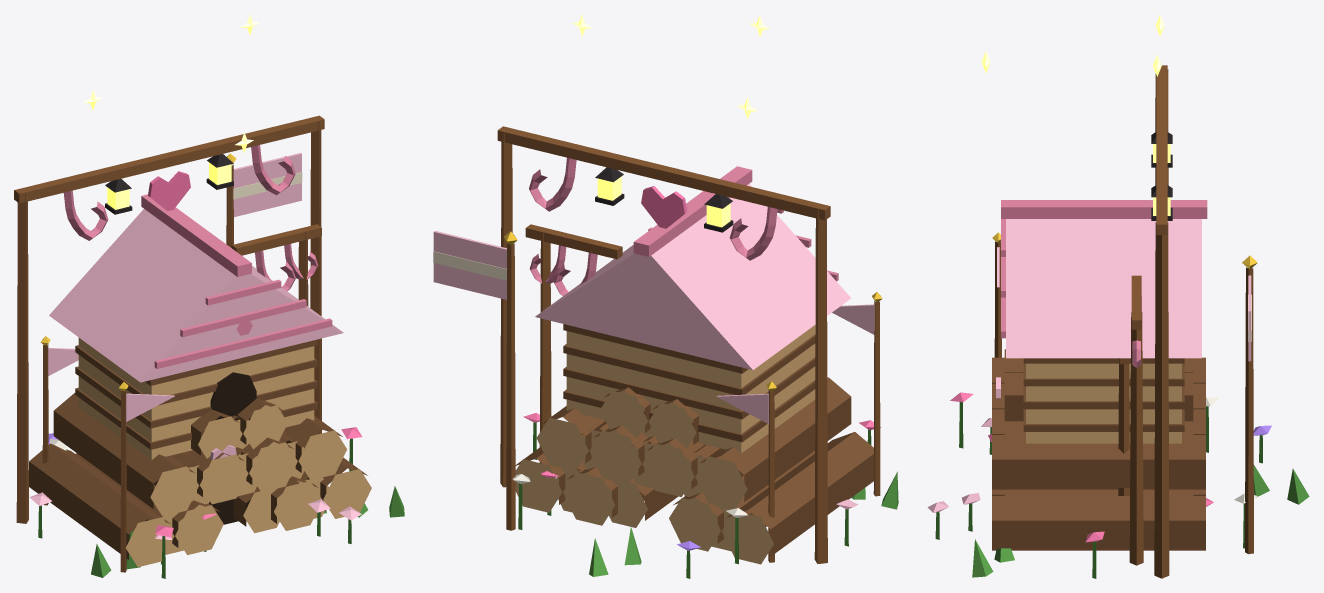
The model's file is opossum-woodpile-hollow.glb.
3 views of the same model, side by side, from view 1: azimuth 30°, elevation 25°; view 2: azimuth 150°, elevation 25°; view 3: azimuth 270°, elevation 25° (orthographic). The views are drawn at different scales.
Parts seen in each view (by area): view 1: lv3, lv2; view 2: lv3, lv2; view 3: lv3, lv2, lv1.
Part boxes in pixels (x1=…): lv3: x1=14, y1=14, x2=404, y2=578; lv2: x1=40, y1=224, x2=367, y2=569; lv3: x1=433, y1=14, x2=898, y2=578; lv2: x1=525, y1=224, x2=865, y2=565; lv3: x1=927, y1=14, x2=1309, y2=578; lv2: x1=962, y1=275, x2=1269, y2=565; lv1: x1=988, y1=358, x2=1129, y2=495.
Bounding box in the file's own units: 1.63 × 2.14 × 1.52.
